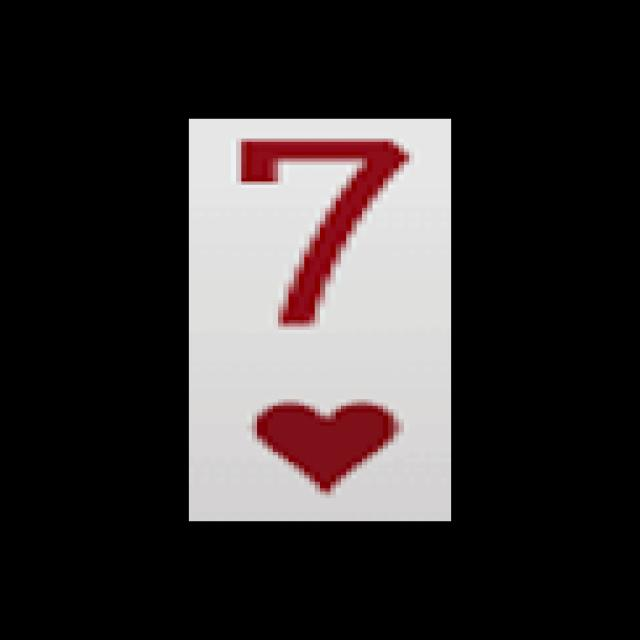7H: (210, 128, 425, 508)
